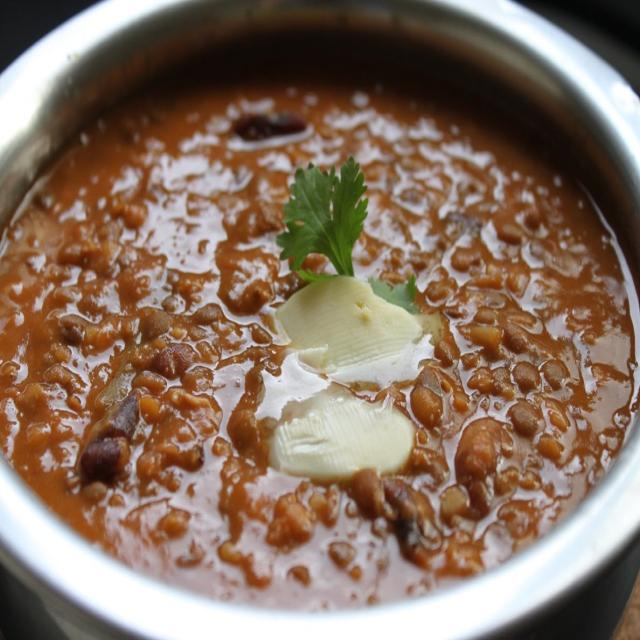dal_makhani: (4, 57, 632, 610)
